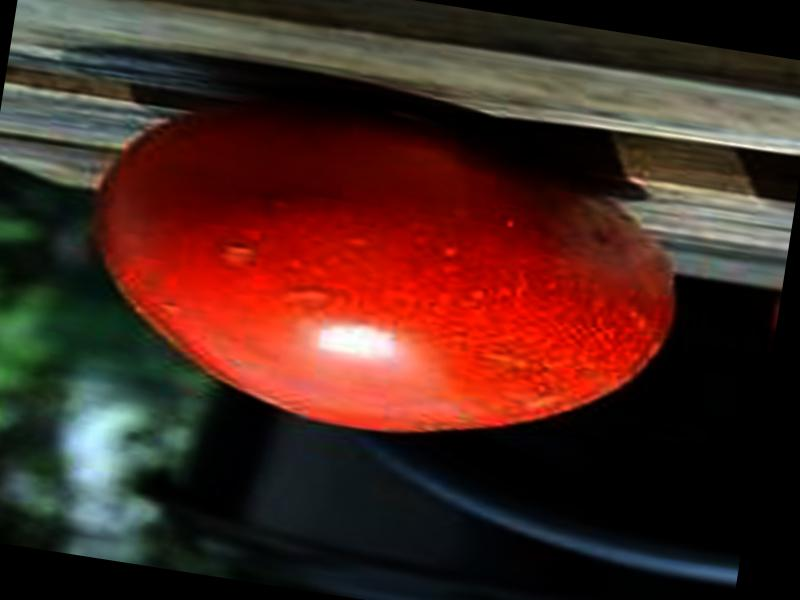Tomato: (65, 76, 696, 475)
